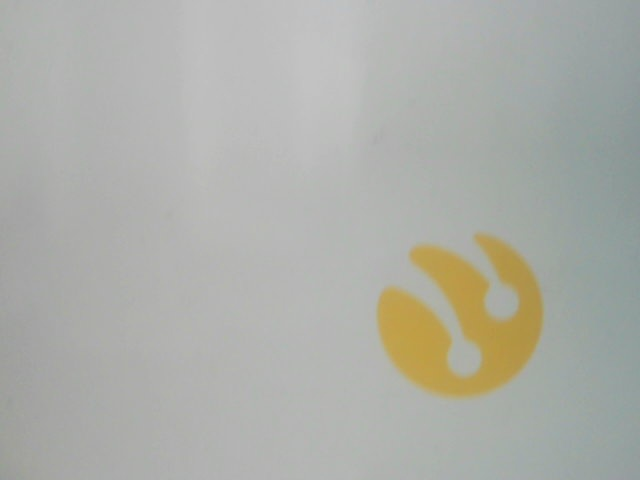AV_H3600Yellow: (373, 216, 549, 402)
